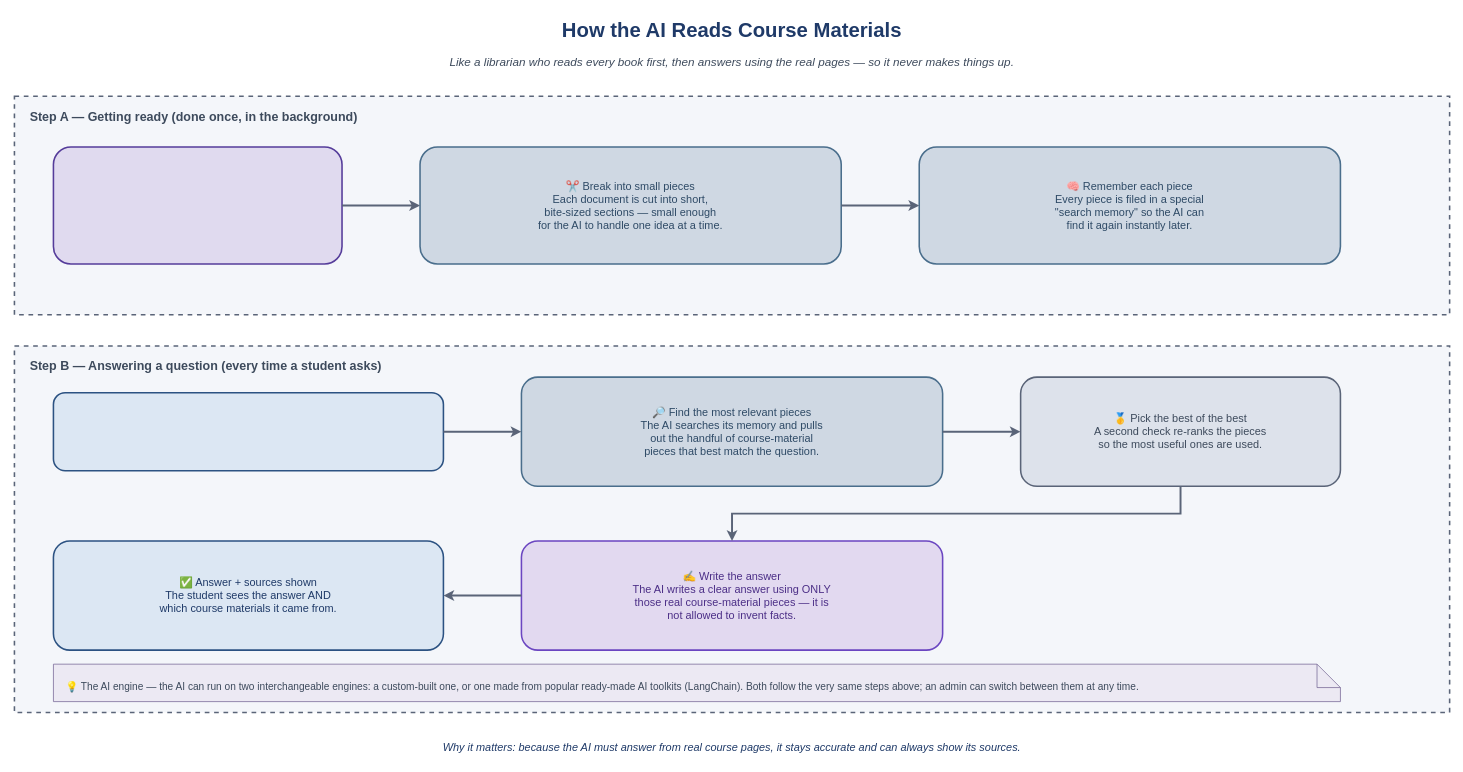
This 1463x772 diagram has some shape labels left out. The centre of each missing label's shape, as x and y in pixels:
📚 Course materials Notes, slides and documents from the lecturer.: pixel 197 205
🙋 Student asks a question "Explain normalisation in databases.": pixel 248 431
